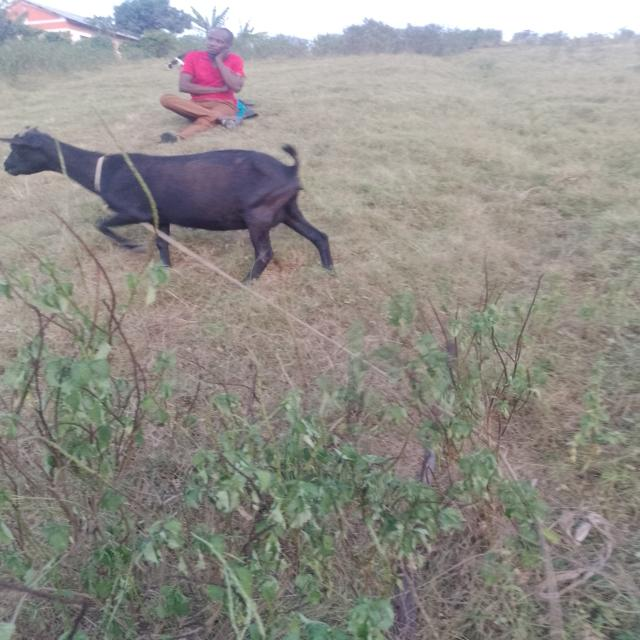goat: (0, 78, 381, 326)
